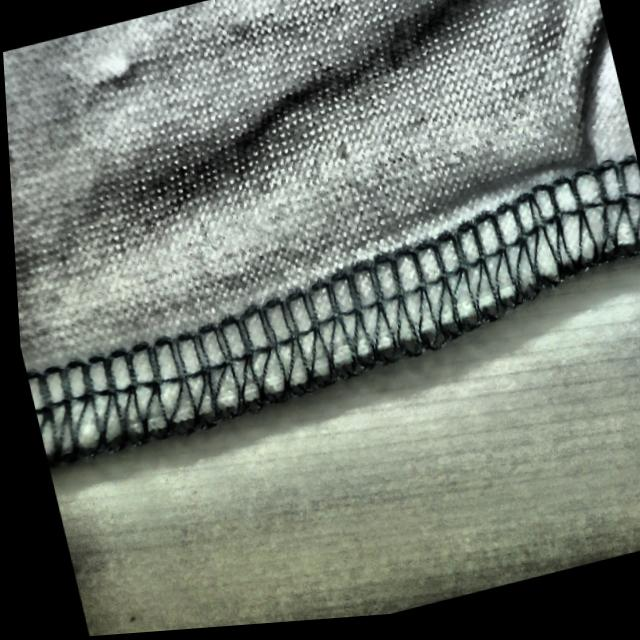seam: (439, 48, 640, 347)
